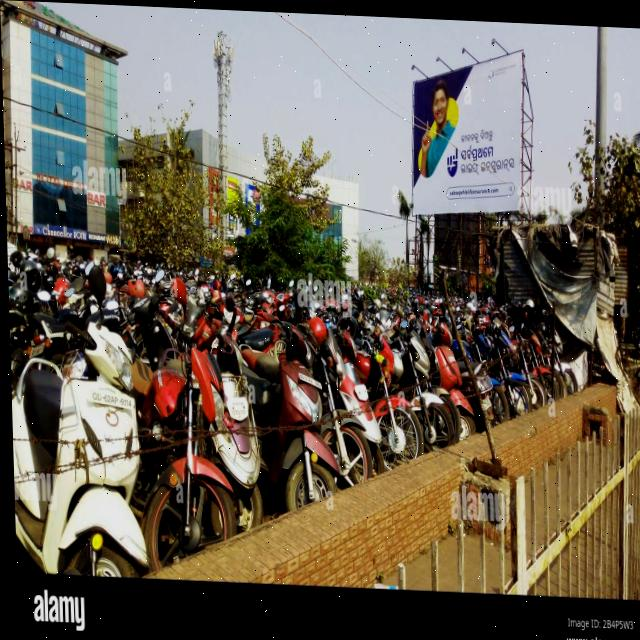plate: (83, 384, 133, 413), (222, 390, 248, 419), (296, 368, 321, 389), (350, 378, 366, 399)
